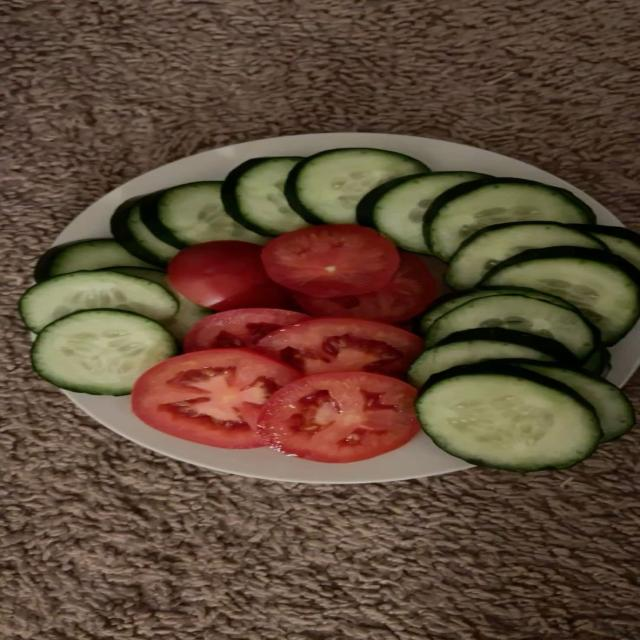cucumber sliced: (415, 363, 601, 471), (477, 247, 639, 345), (424, 177, 596, 262), (31, 308, 178, 396), (425, 295, 595, 361), (283, 147, 428, 224), (445, 222, 603, 290), (357, 171, 484, 254), (508, 360, 634, 443), (407, 328, 580, 387), (20, 271, 178, 333), (142, 181, 266, 249), (222, 157, 309, 236), (35, 238, 163, 282), (111, 192, 179, 268), (570, 225, 639, 270), (584, 346, 610, 375)
sliced tomatoe: (132, 349, 299, 448), (258, 372, 418, 462), (294, 253, 439, 323), (262, 225, 399, 297), (258, 319, 423, 376), (168, 241, 290, 311), (183, 308, 309, 351)
